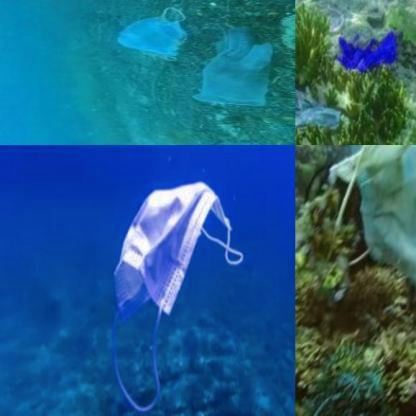Mask: (112, 180, 244, 412), (326, 145, 415, 302), (110, 5, 191, 61), (295, 75, 347, 130)
glove: (190, 26, 276, 109), (332, 30, 395, 80)
